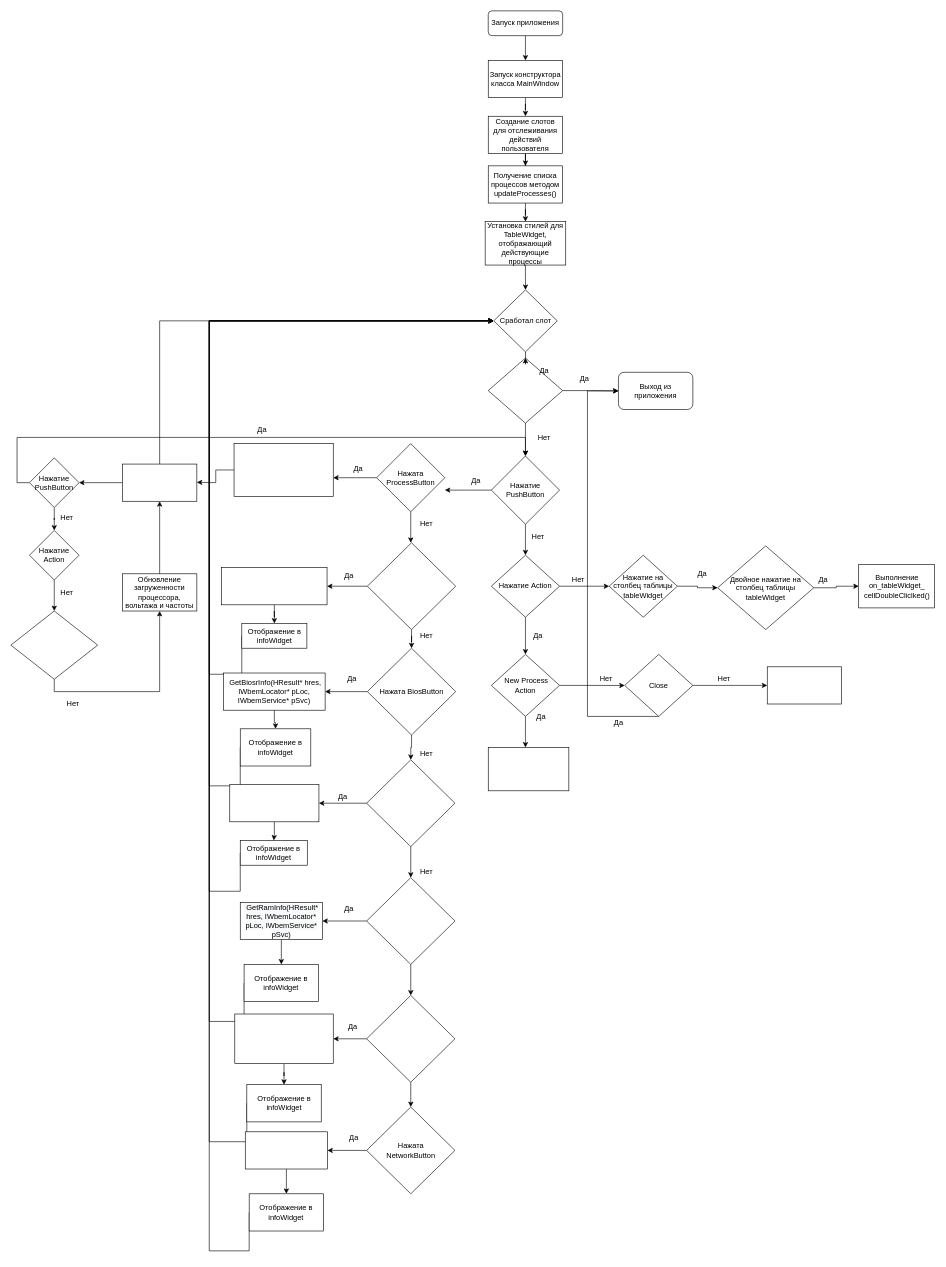
This 946x1267 diagram has some shape labels left out. The shapes that lost their labels are listed below. From the top down, each one's box as (x1, y1, x2, y2) in pixels, then its label:
(488, 357, 563, 423): Нажатие кнопки выхода
(122, 463, 197, 501): Отображение информации в infoWidget
(233, 443, 333, 496): GetProcessorInfo(HResult* hres, IWbemLocator* pLoc, IWbemService* pSvc)
(221, 567, 327, 605): GetVideoAdapterInfo(HResult* hres, IWbemLocator* pLoc, IWbemService* pSvc)
(367, 542, 456, 630): Нажата VideoAdapterButton
(10, 610, 98, 679): Нажатие/двойное нажатие на строку tableWidget
(767, 666, 842, 704): GetAppInfo()
(488, 747, 569, 791): Выполнение слота on_actionOpen_ Process_triggered()
(229, 784, 319, 822): GetBatteryInfo(HResult* hres, IWbemLocator* pLoc, IWbemService* pSvc)
(366, 759, 455, 847): Нажата BatteryButton
(366, 877, 455, 964): Нажата RamButton
(234, 1013, 333, 1064): GetMotherBoardInfo(HResult* hres, IWbemLocator* pLoc, IWbemService* pSvc)
(366, 995, 455, 1082): Нажата MotherBoardButton
(245, 1131, 327, 1169): GetNetworkInfo(HResult* hres, IWbemLocator* pLoc, IWbemService* pSvc)
